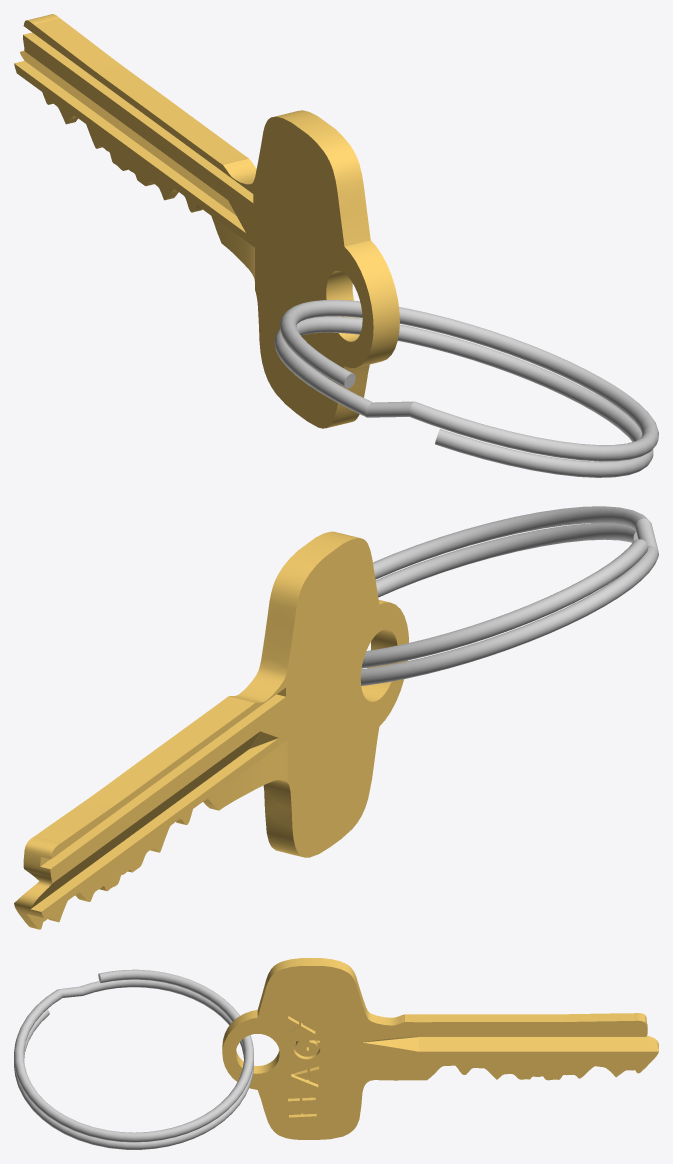
The model's file is Key.glb.
3 views of the same model, one above another, from view 1: azimuth 30°, elevation 25°; view 2: azimuth 150°, elevation 25°; view 3: azimuth 270°, elevation 25° (orthographic). The views are drawn at different scales.
Parts seen in each view (by area): view 1: Body3, Body1; view 2: Body3, Body1; view 3: Body3, Body1.
Boxes of the visible parts, x1,y1,x2,y2 form: Body3: (14,14,399,428); Body1: (274,300,658,477); Body3: (14,531,408,929); Body1: (360,506,658,685); Body3: (222,958,658,1139); Body1: (14,969,253,1149).
Bounding box in the file's own units: 3 × 2.51 × 8.4.
